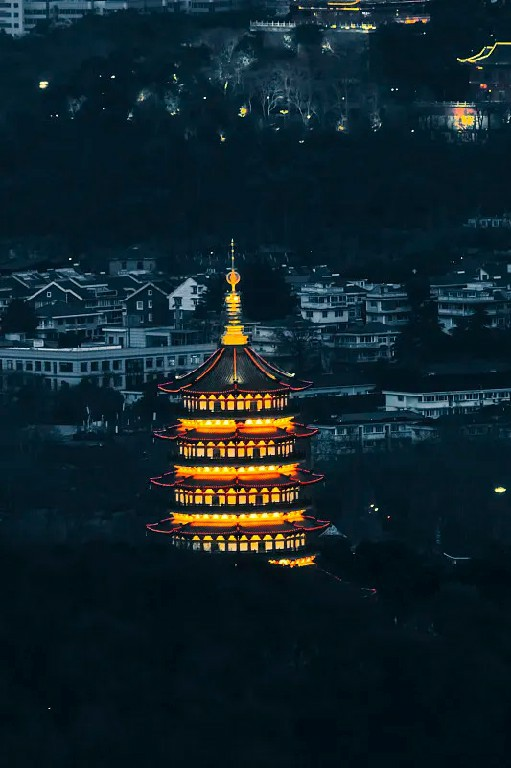Leifeng: (138, 233, 334, 573)
